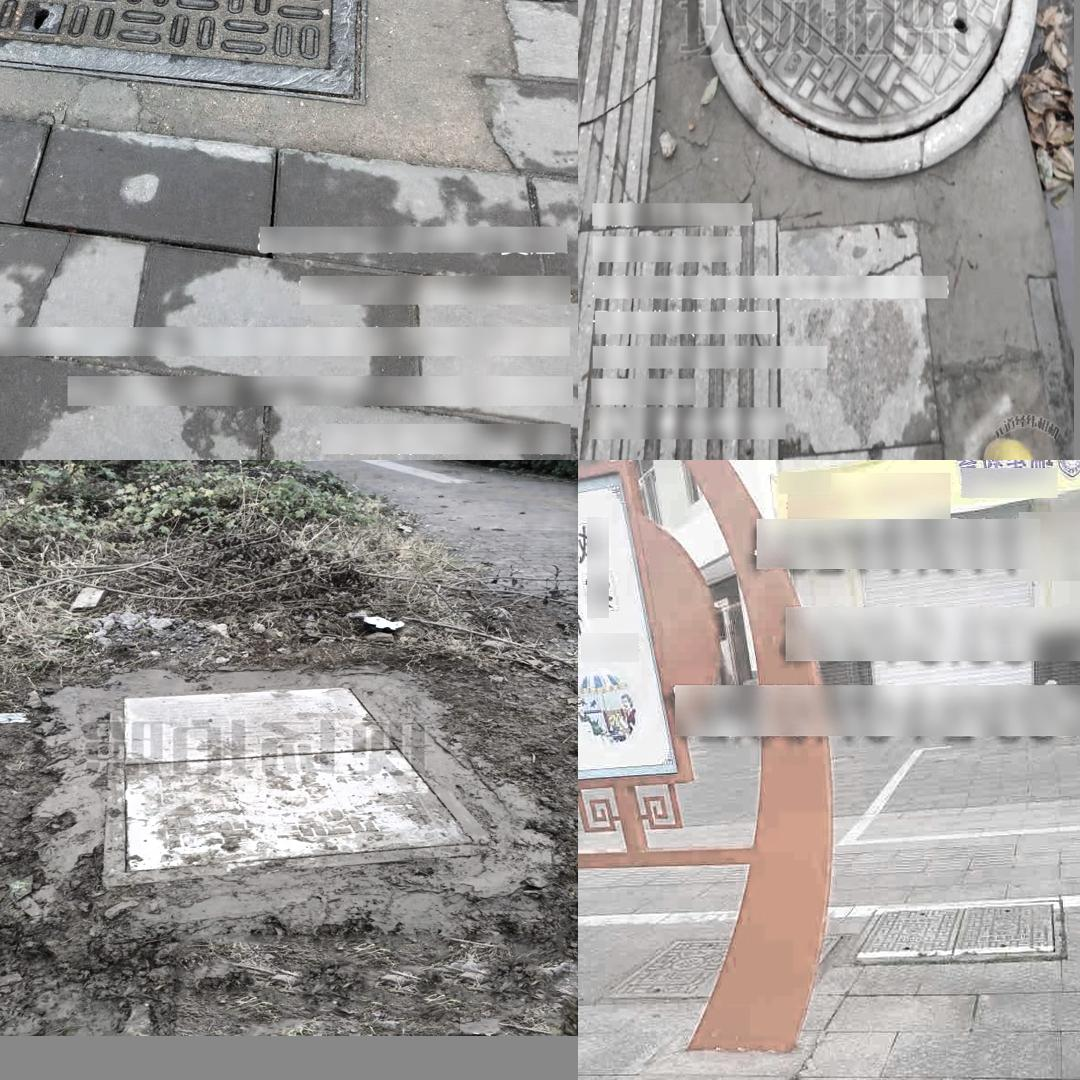good: (100, 680, 494, 886), (699, 0, 1038, 179), (0, 0, 369, 103), (844, 898, 1069, 963)
